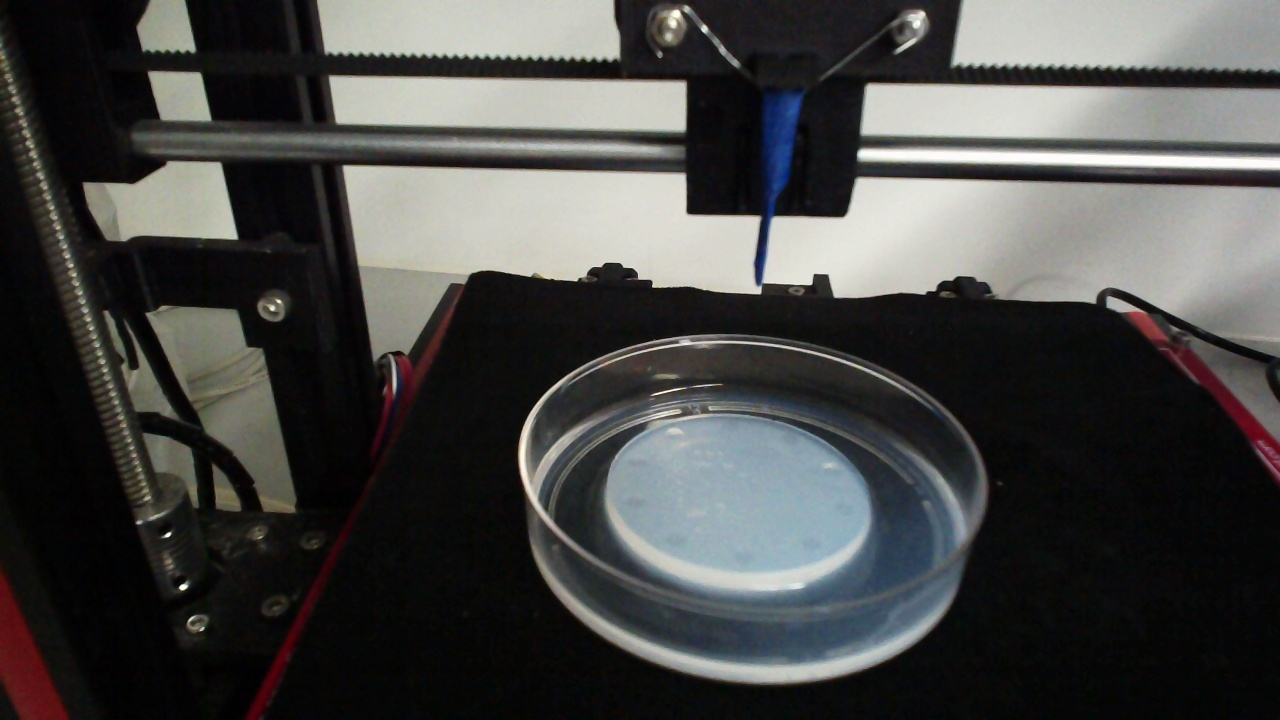groove: (664, 531, 690, 547), (800, 536, 823, 552), (663, 427, 686, 442), (622, 493, 645, 508), (626, 453, 647, 469), (821, 462, 843, 477), (732, 549, 752, 565), (833, 501, 853, 517), (779, 430, 800, 445), (720, 420, 741, 434)
needle: (755, 92, 804, 284)
